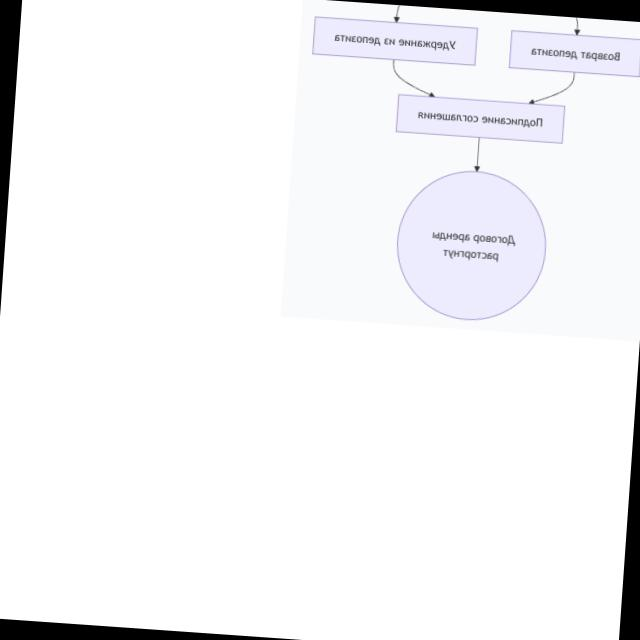arrow: (392, 60, 433, 97), (529, 74, 573, 104), (472, 136, 482, 170)
circle: (396, 172, 545, 319)
rectangle: (395, 95, 563, 143), (312, 17, 476, 64), (509, 31, 639, 76)
